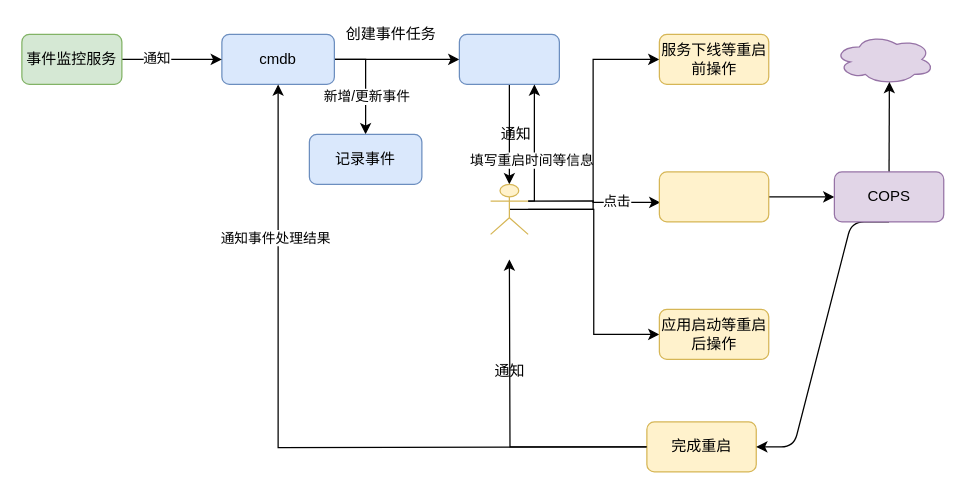
This 966x494 diagram has some shape labels left out. Here are the shapes that lost their labels. From the top down, the centre of each, then its label:
At point (508, 58): "scm".
At point (883, 58): "阿里云".
At point (508, 208): "主机负责人".
At point (713, 196): "SCM 重启按钮".
